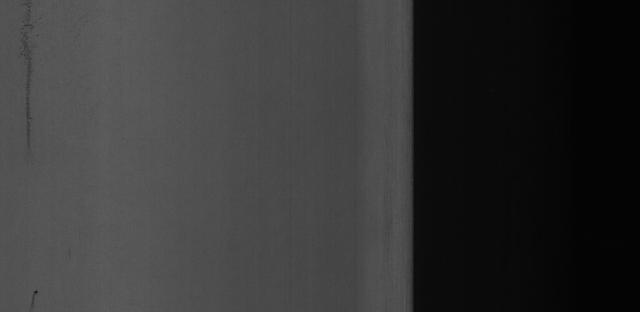inclusion: (15, 5, 39, 149), (25, 283, 43, 312)
